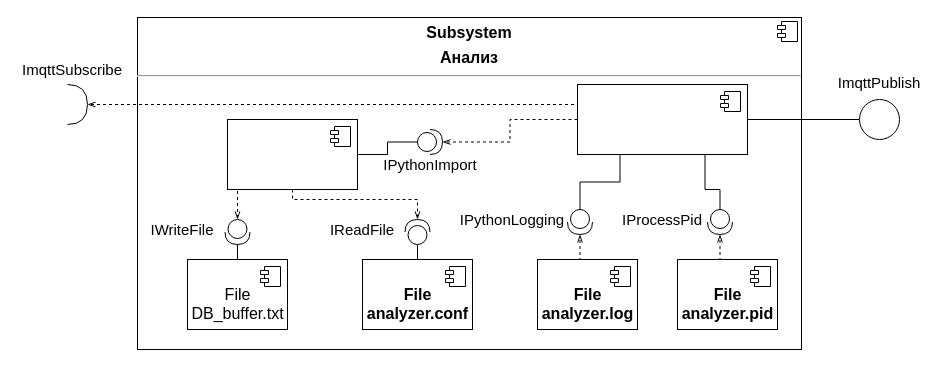
The diagram is 951 pixels wide and 367 high, and some of its shapes have lost their labels. Each missing label, with the centre of its shape:
"Component Analyzer.py" belongs at (292,154).
"Component AnalyzerDaemon.py" belongs at (662,119).
